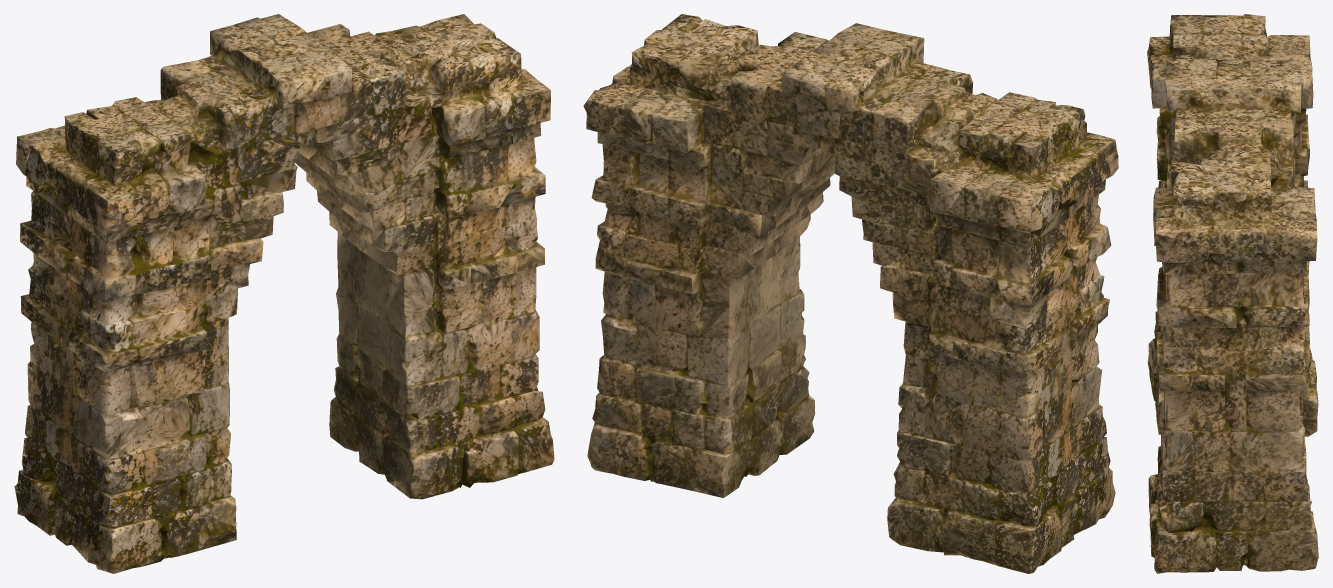
Rendered from ARQ_ArcoMaya_01_LOD1.fbx.
The picture shows the model from 3 angles, left to right: view 1: azimuth 30°, elevation 25°; view 2: azimuth 150°, elevation 25°; view 3: azimuth 270°, elevation 25°; orthographic projection. The views are drawn at different scales.
Parts seen in each view (by area): view 1: ARQ_ArcoMaya_01_Mesh000; view 2: ARQ_ArcoMaya_01_Mesh000; view 3: ARQ_ArcoMaya_01_Mesh000.
Boxes of the visible parts, box(x1,y1,x2,y2) form: ARQ_ArcoMaya_01_Mesh000: box(14, 14, 554, 573); ARQ_ArcoMaya_01_Mesh000: box(583, 14, 1118, 573); ARQ_ArcoMaya_01_Mesh000: box(1147, 14, 1318, 573).
Size of the model in its own units: 4.48 by 4.2 by 1.63.
